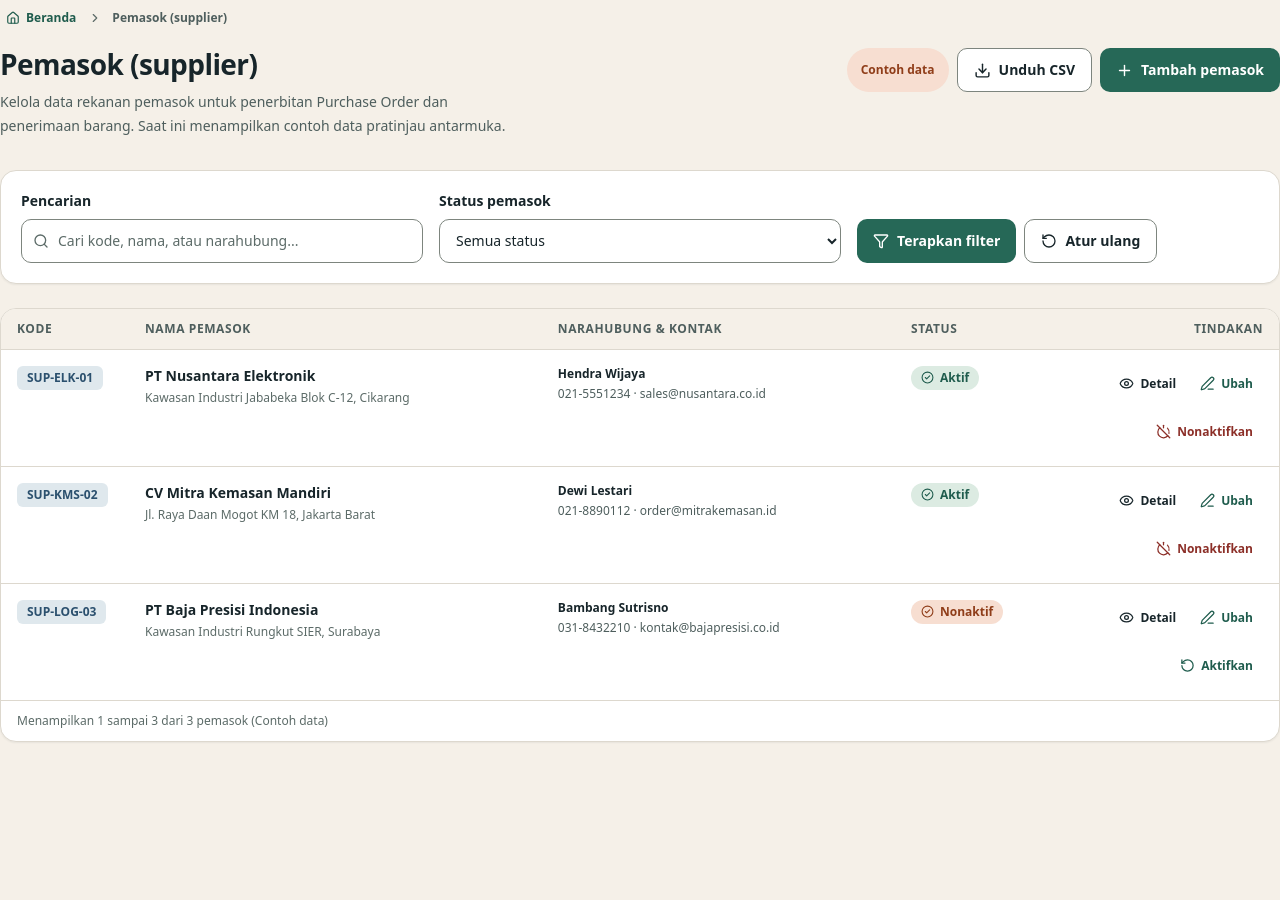
SuppliersPage (Contoh data pratinjau) › merender contoh data pemasok, mendukung detail, tambah, ubah, dan nonaktifkan
Expected: the text "Contoh data" is shown, [847, 48, 949, 92]
Expected: the text "PT Nusantara Elektronik" is shown, [145, 366, 316, 385]
Click the button named "Lihat detail pemasok PT Nusantara Elektronik": click(1148, 384) [1109, 362, 1186, 406]
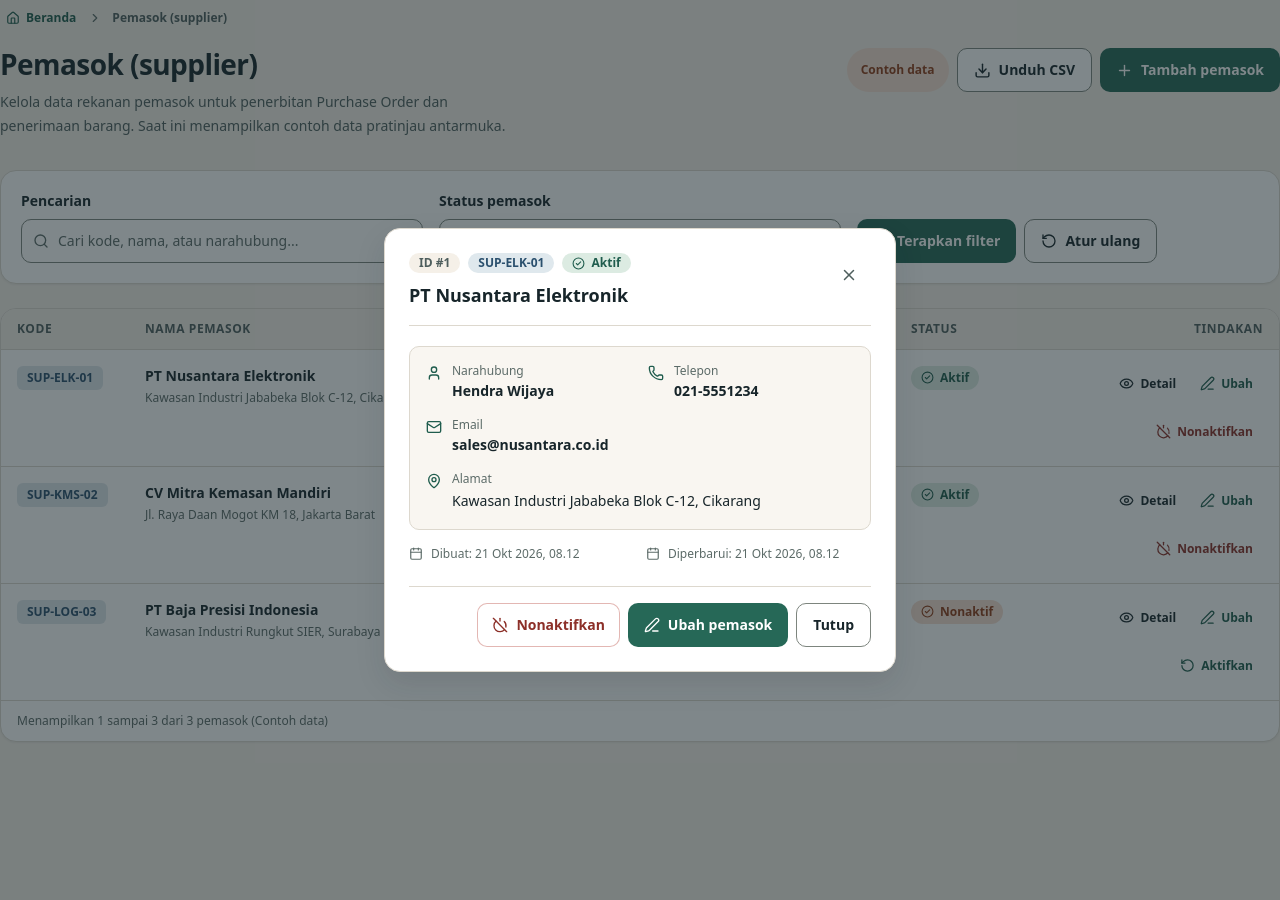
Now the dialog "PT Nusantara Elektronik" is shown, box [384, 228, 896, 672]
Click the button named "Tutup detail pemasok": click(849, 275) [827, 253, 871, 297]
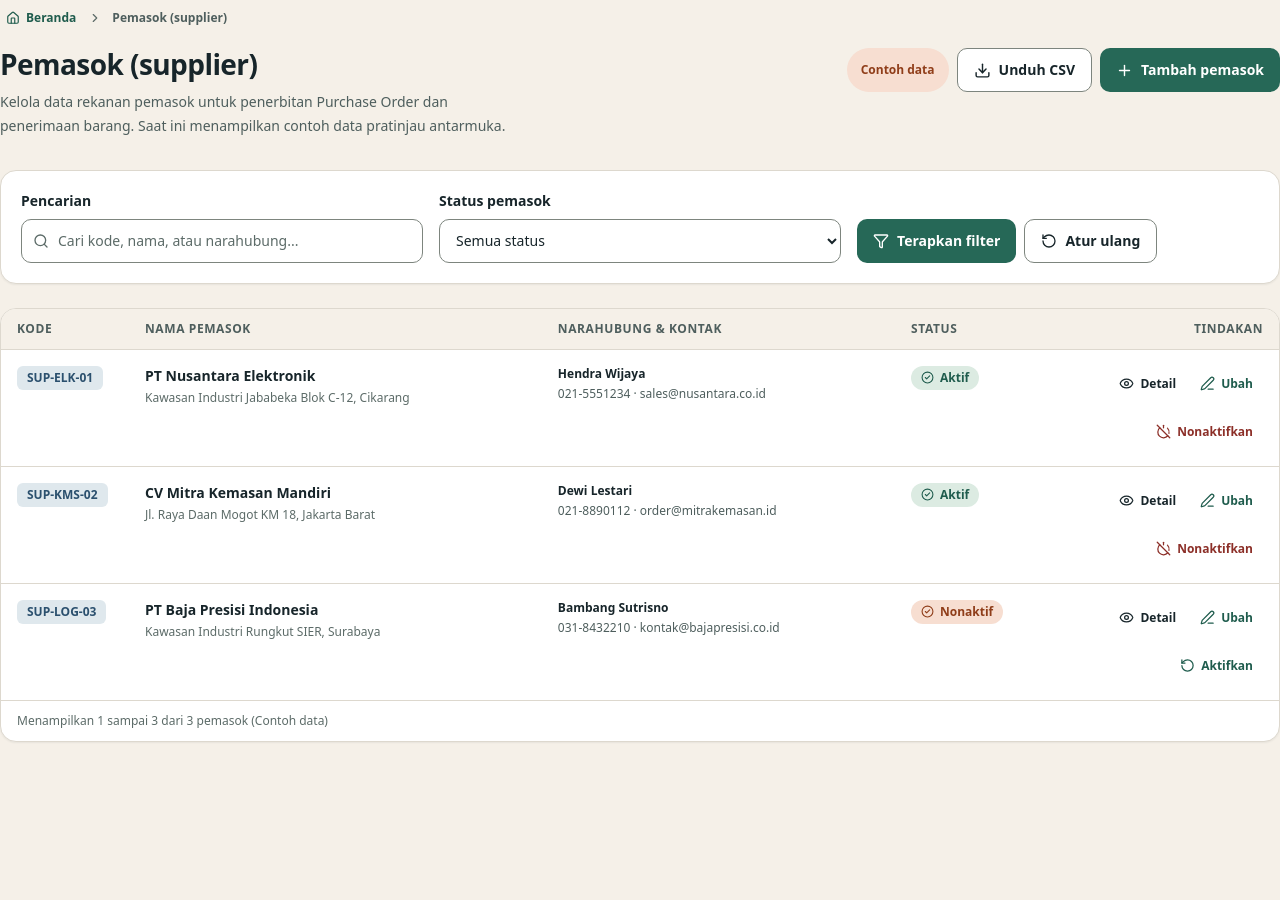
Click the button "Tambah pemasok": click(1190, 70) [1100, 48, 1279, 92]
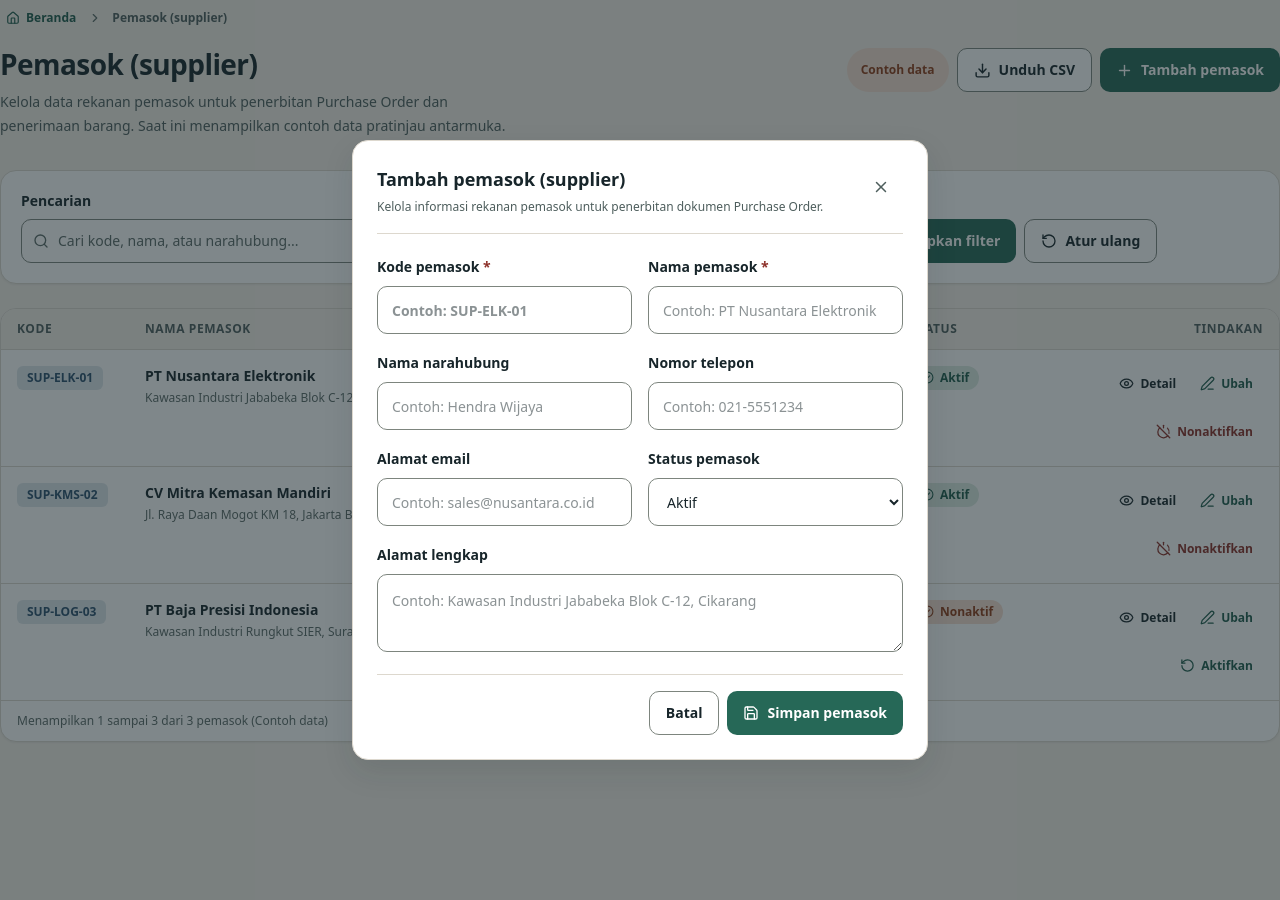
In the field labelled "Kode pemasok *": (504, 310) [377, 286, 632, 334], type "SUP-BARU-09"
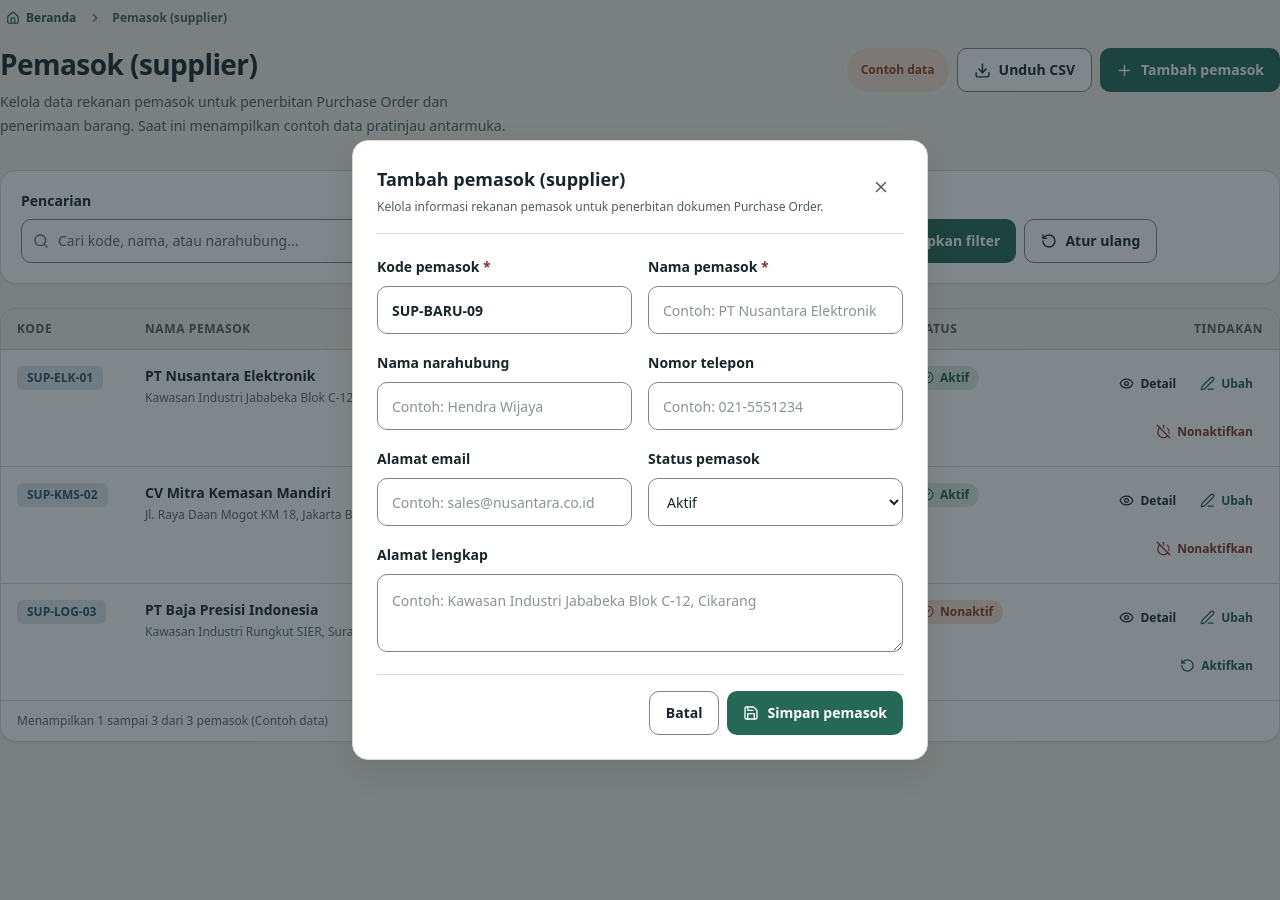
In the field labelled "Nama pemasok *": (776, 310) [648, 286, 903, 334], type "PT Logistik Cepat"
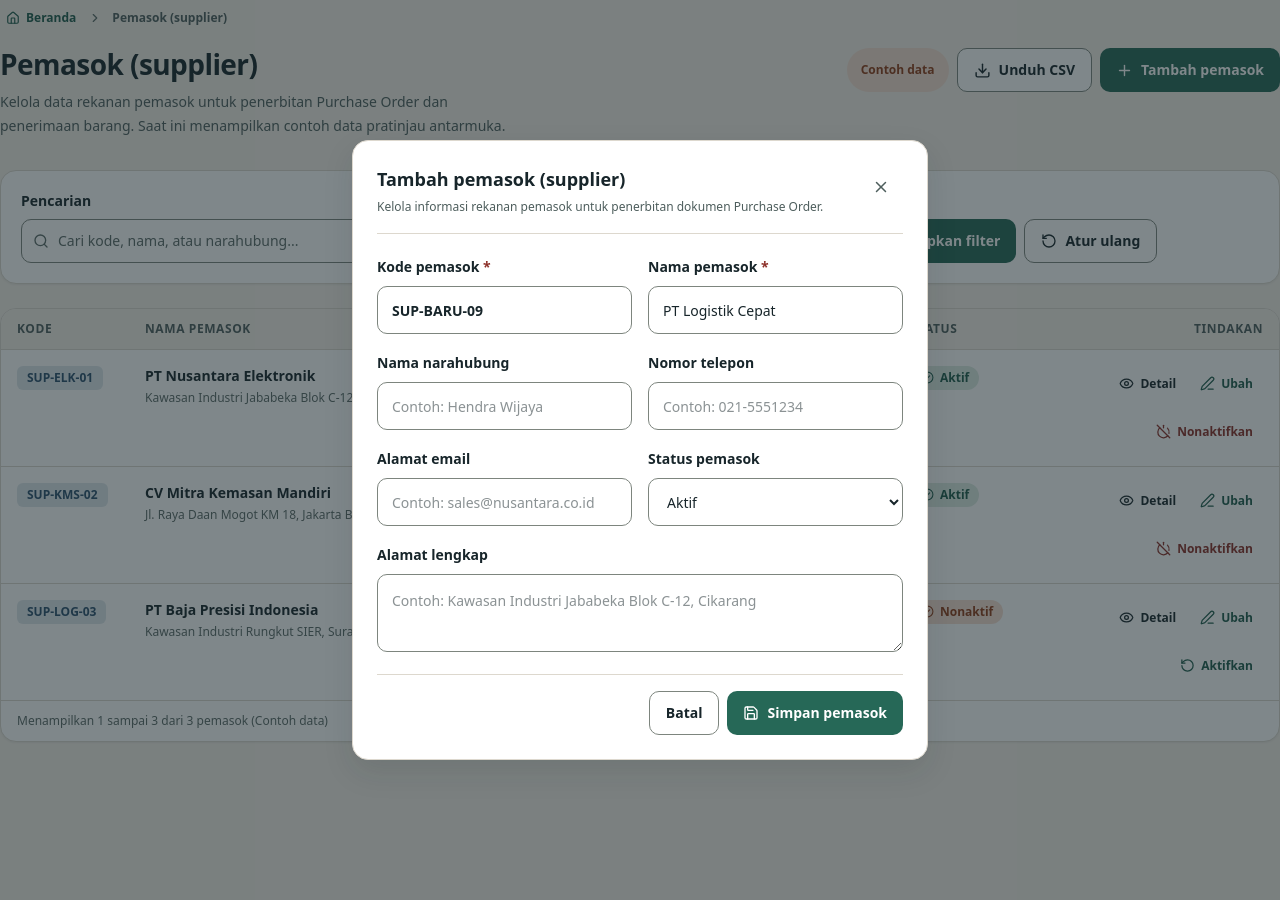
Click the button "Simpan pemasok": click(815, 713) [728, 691, 903, 735]
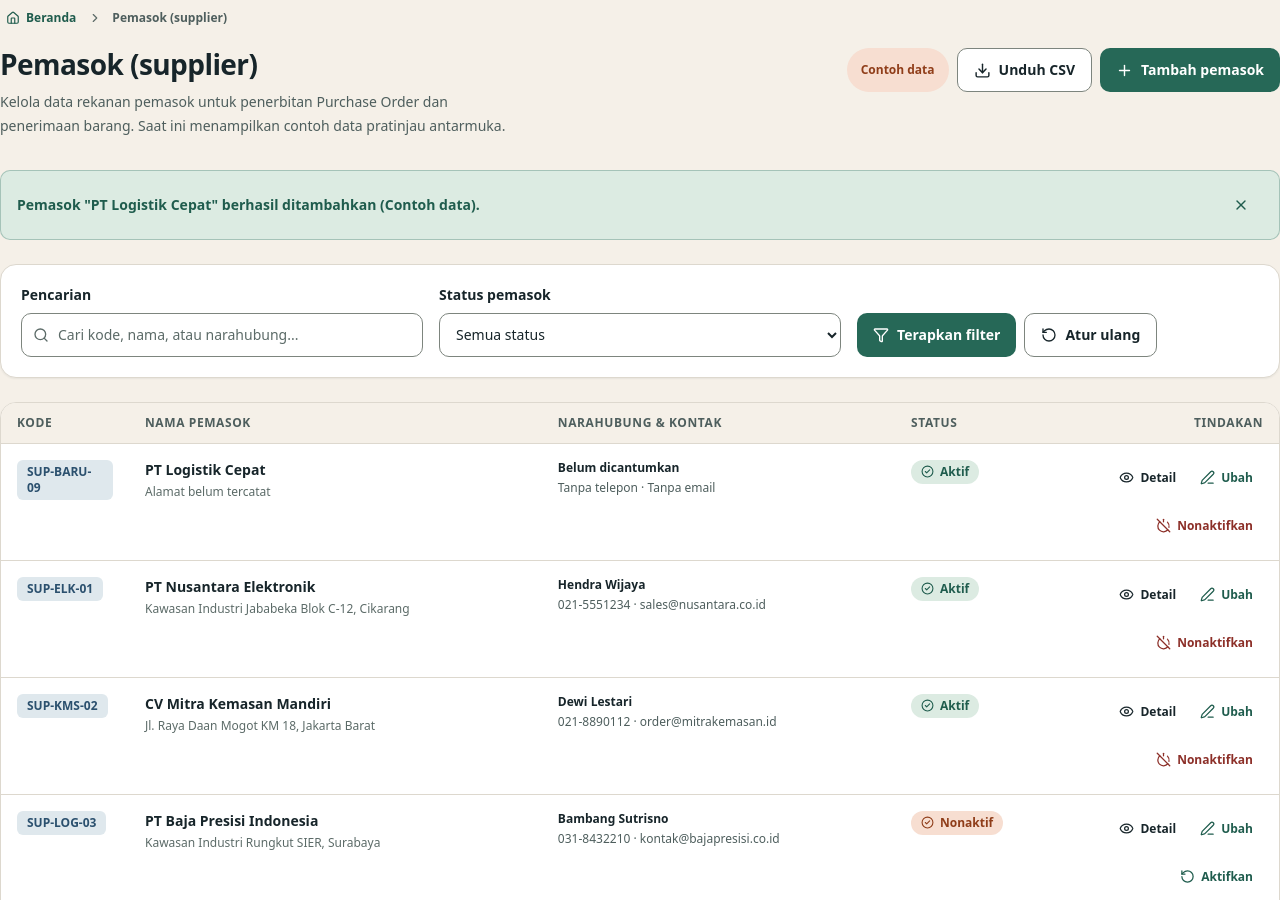
Now the text "PT Logistik Cepat" is shown, box [145, 460, 266, 479]
